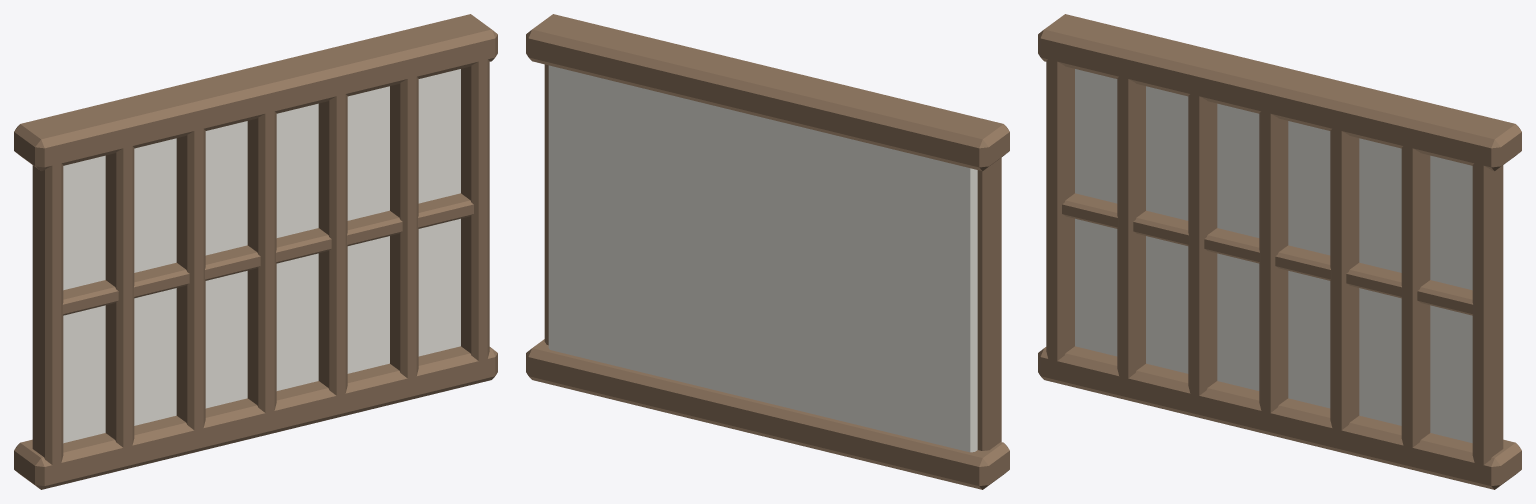
Rendered from feudal-japan-castle-town-lattice-window-9b6026f8__26306.glb.
The picture shows the model from 3 angles, left to right: view 1: azimuth 30°, elevation 25°; view 2: azimuth 150°, elevation 25°; view 3: azimuth 330°, elevation 25°; orthographic projection.
Parts seen in each view (by area): view 1: lattice-window; view 2: lattice-window; view 3: lattice-window.
Boxes of the visible parts, box(x1,y1,x2,y2) form: lattice-window: box(14, 14, 497, 489); lattice-window: box(526, 14, 1009, 489); lattice-window: box(1038, 14, 1521, 489).
Size of the model in its own units: 1.52 by 1.1 by 0.1599.
